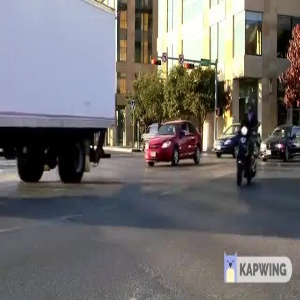car: (140, 118, 207, 165)
motorcycle: (222, 98, 268, 189)
semi: (1, 1, 117, 194)
